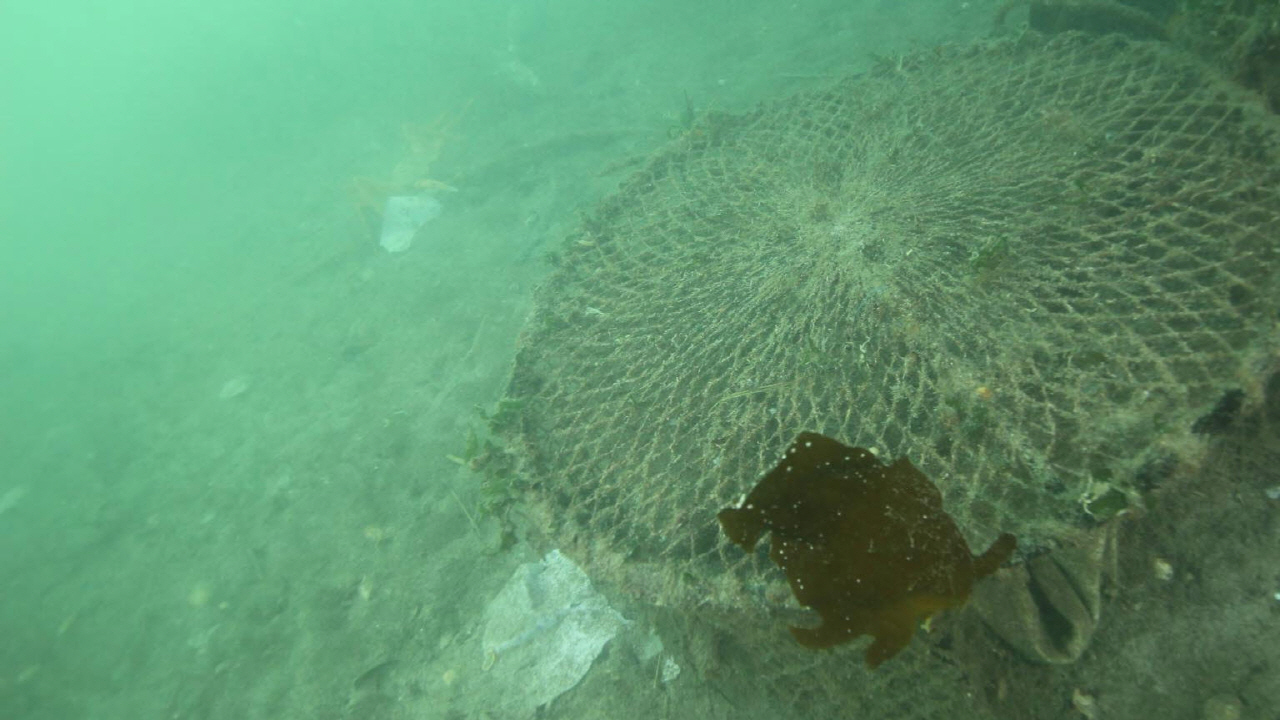circular fish trap: (502, 24, 1280, 614)
